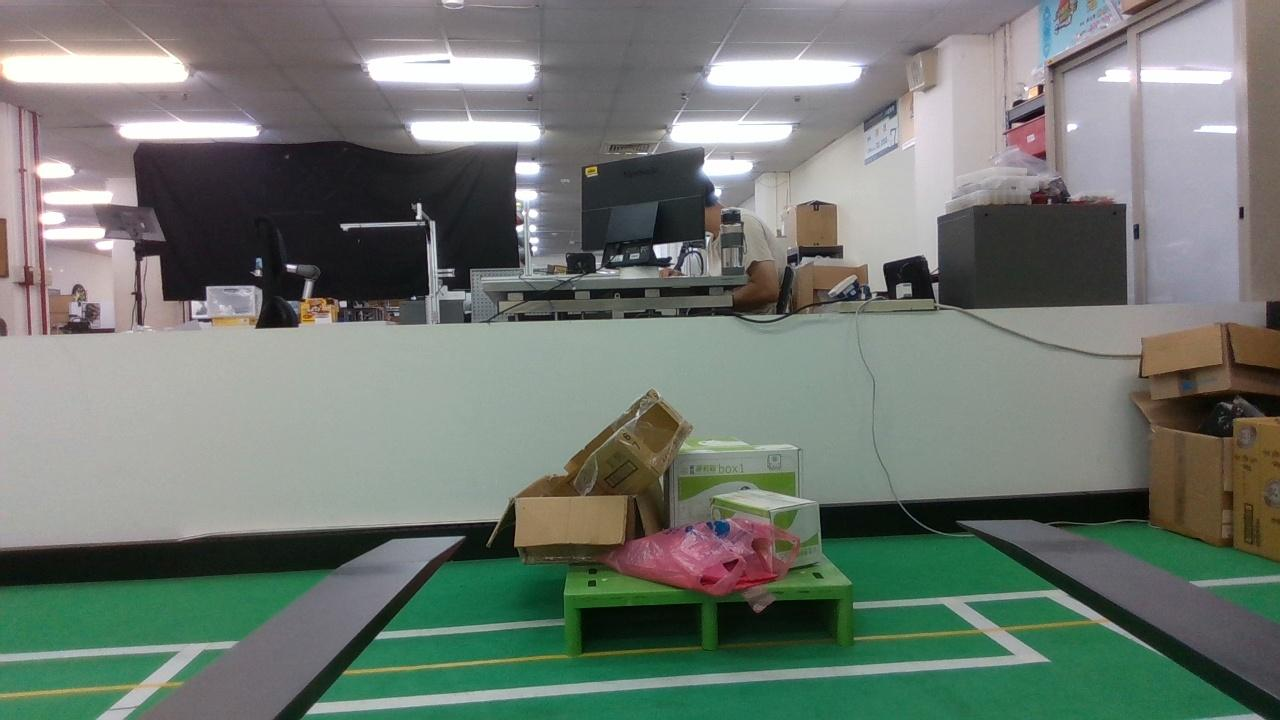Pallet: (564, 582, 855, 653)
